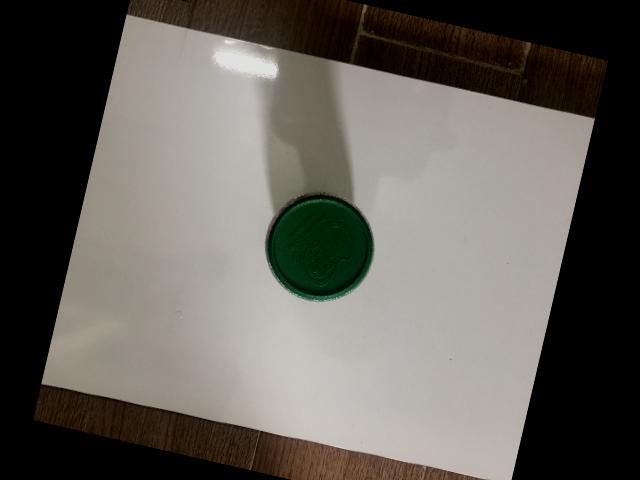milo: (266, 191, 375, 301)
